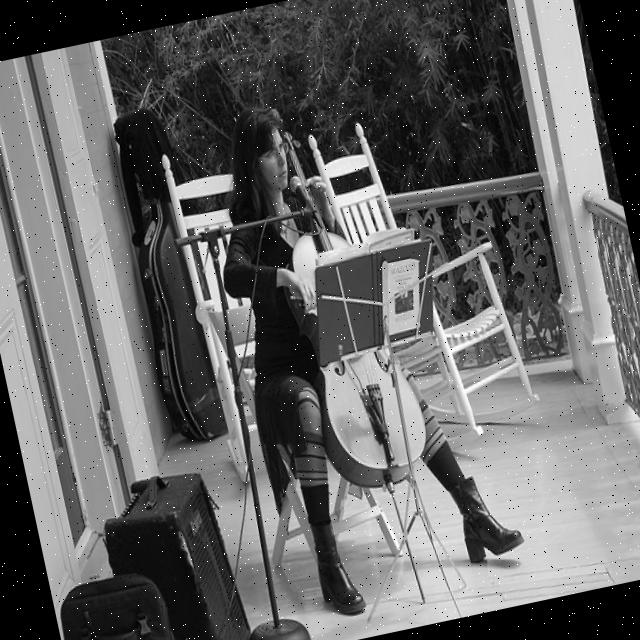cello: (246, 90, 437, 498)
